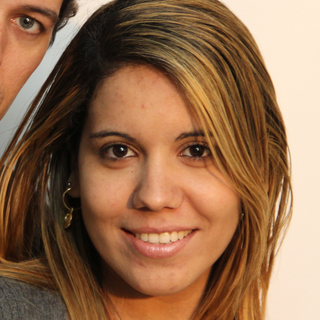eye: (95, 139, 141, 165), (175, 138, 217, 165), (10, 7, 46, 36)
